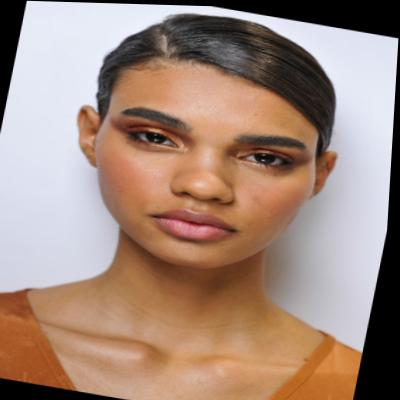netural: (79, 51, 330, 284)
